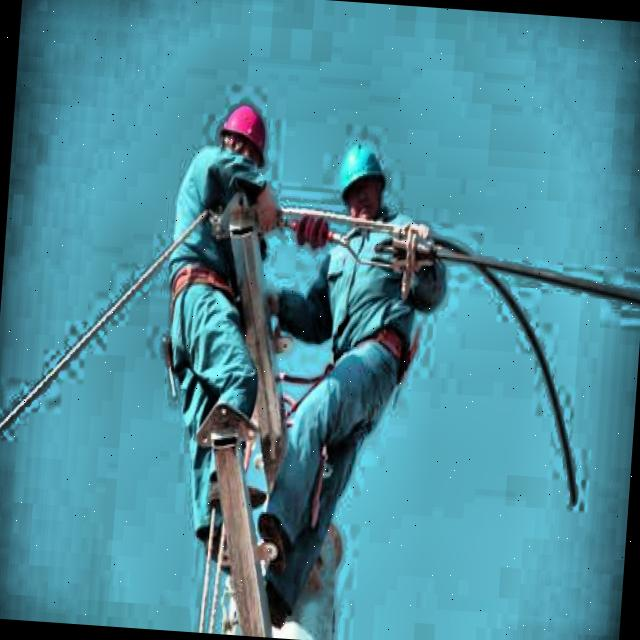helmet: (329, 135, 393, 233), (214, 98, 271, 170)
